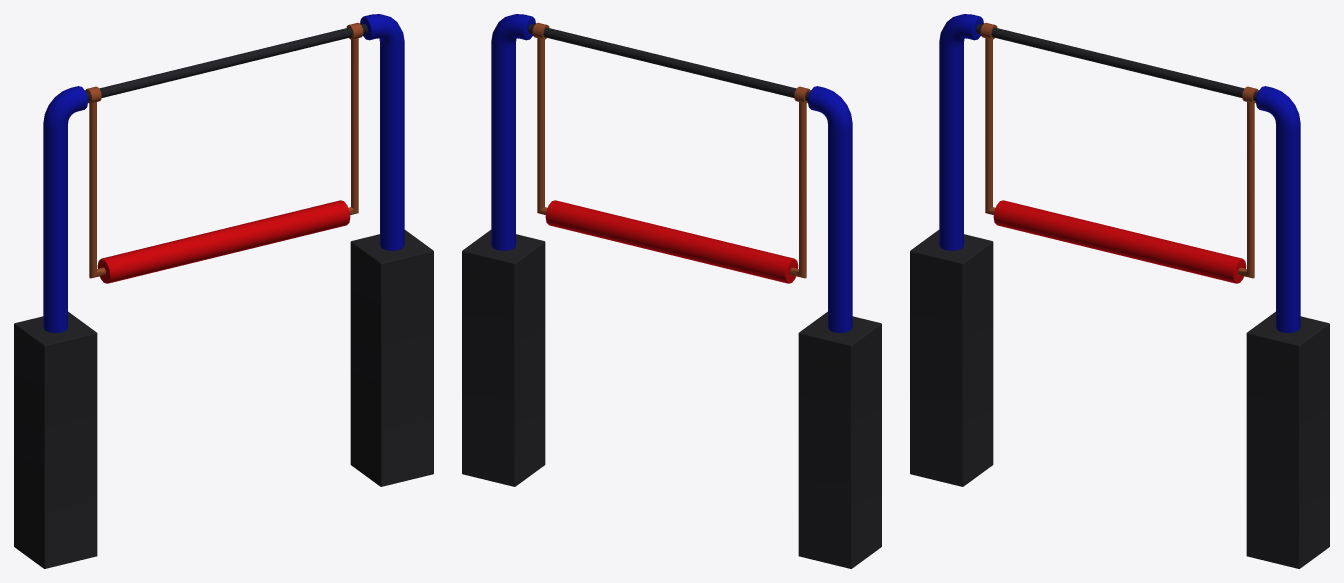
Rendered from Swing.fbx.
3 renders of one model, left to right at view 1: azimuth 30°, elevation 25°; view 2: azimuth 150°, elevation 25°; view 3: azimuth 330°, elevation 25°, orthographic.
Parts seen in each view (by area): view 1: Cube.001, Circle.014, Circle.017; view 2: Cube.001, Circle.014, Circle.017; view 3: Cube.001, Circle.014, Circle.017.
Boxes of the visible parts, x1,y1,x2,y2 form: Cube.001: (14, 14, 433, 568); Circle.014: (97, 200, 350, 283); Circle.017: (85, 22, 363, 278); Cube.001: (462, 14, 881, 568); Circle.014: (545, 200, 798, 283); Circle.017: (532, 22, 810, 278); Cube.001: (910, 14, 1329, 568); Circle.014: (993, 200, 1246, 283); Circle.017: (980, 22, 1258, 278).
Size of the model in its own units: 7.3 by 8.2 by 1.
